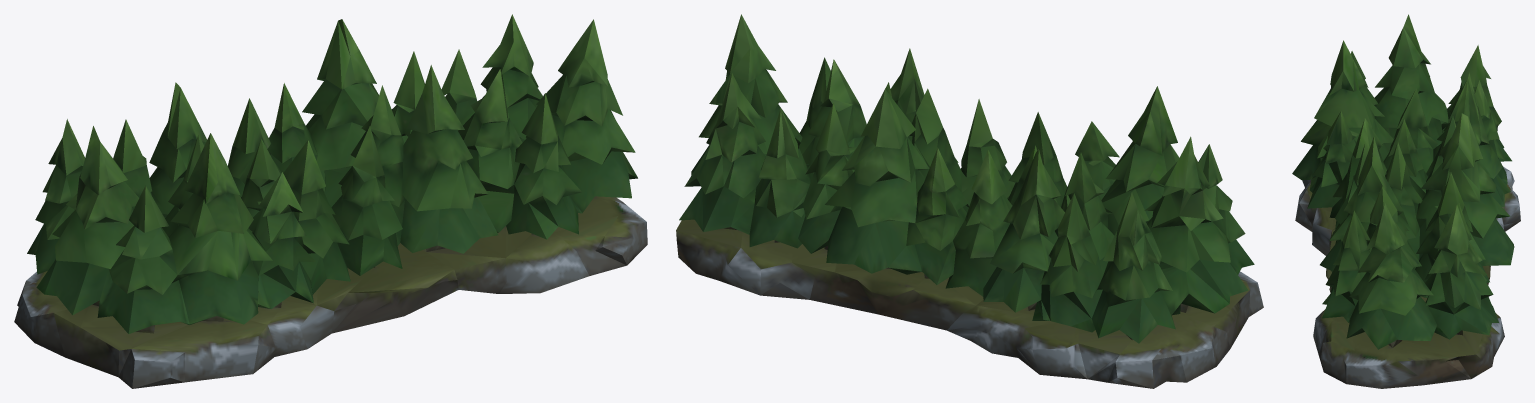
The picture shows the model from 3 angles, left to right: view 1: azimuth 30°, elevation 25°; view 2: azimuth 150°, elevation 25°; view 3: azimuth 270°, elevation 25°; orthographic projection. The views are drawn at different scales.
Visible parts, largest first — view 1: backdrop_forest; view 2: backdrop_forest; view 3: backdrop_forest.
Boxes of the visible parts, x1,y1,x2,y2 form: backdrop_forest: (14, 14, 647, 388); backdrop_forest: (676, 14, 1263, 388); backdrop_forest: (1292, 14, 1520, 388).
Size of the model in its own units: 0.9797 by 0.3807 by 0.4299.
1 material, 1 textured.
